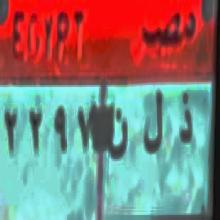2: (2, 101, 22, 161), (28, 103, 44, 166)
7: (76, 99, 94, 155)
9: (52, 102, 70, 162)
laam: (141, 86, 165, 162)
noon: (105, 105, 129, 169)
zaal: (177, 90, 194, 154)
